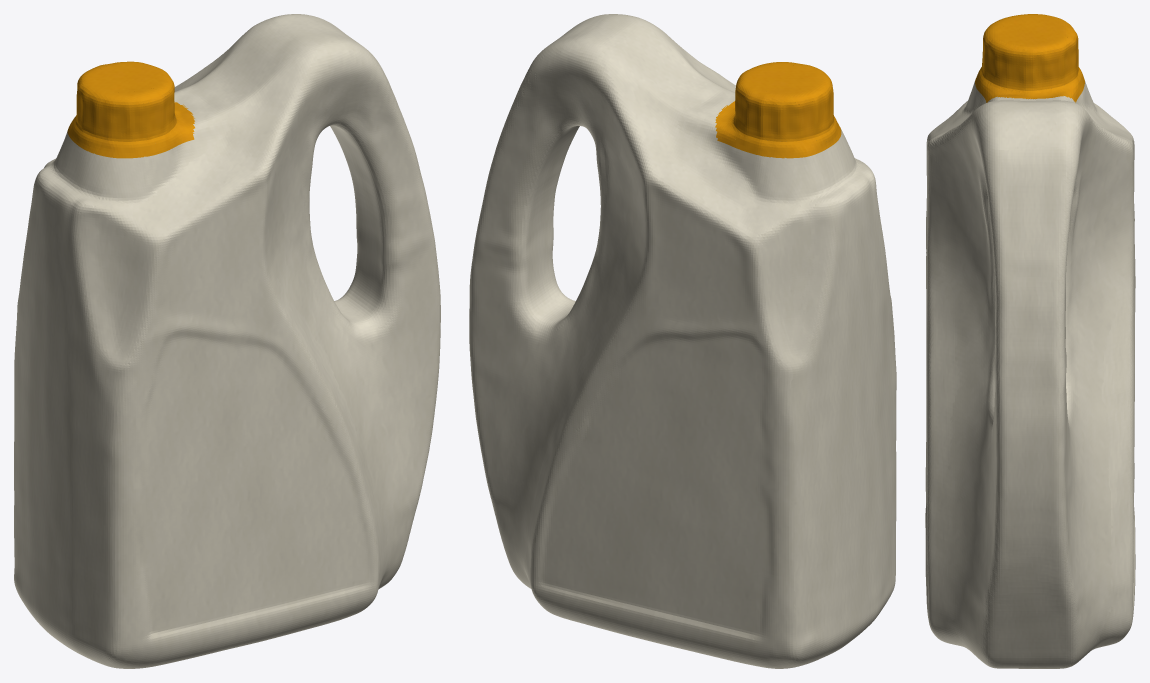
The model's file is oil-bottle-card.glb.
3 views of the same model, side by side, from view 1: azimuth 30°, elevation 25°; view 2: azimuth 150°, elevation 25°; view 3: azimuth 270°, elevation 25° (orthographic). The views are drawn at different scales.
Visible parts, largest first — view 1: FoodOilCan_UserGeometry; view 2: FoodOilCan_UserGeometry; view 3: FoodOilCan_UserGeometry.
Part boxes in pixels (x1=…): FoodOilCan_UserGeometry: x1=14, y1=14, x2=440, y2=668; FoodOilCan_UserGeometry: x1=469, y1=14, x2=896, y2=668; FoodOilCan_UserGeometry: x1=925, y1=14, x2=1135, y2=668.
Bounding box in the file's own units: 0.1485 × 0.208 × 0.0742.
Materials: 2 (2 with a texture image).
